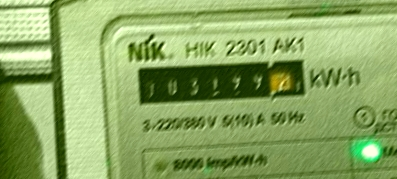0: (142, 76, 156, 98), (165, 74, 179, 95)
1: (209, 70, 221, 90)
3: (188, 75, 200, 95)
6: (277, 76, 288, 92)
9: (230, 69, 243, 90), (251, 69, 264, 89)
screen: (130, 47, 316, 118)
